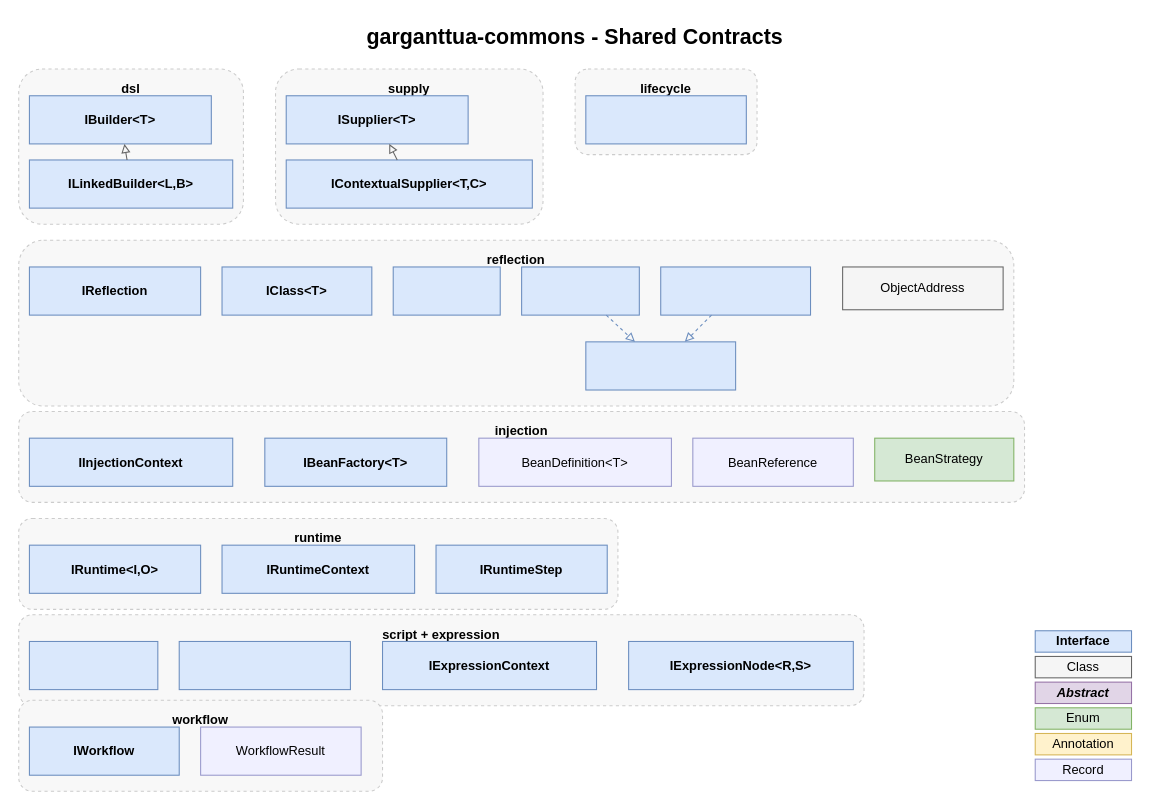
The diagram is 1150 pixels wide and 810 high, and some of its shapes have lost their labels. The centre of each missing label's shape, as x and y in pixels:
IConstructor: pixel 735 290
IExecutable: pixel 660 365
IField: pixel 446 290
ILifecycle: pixel 665 119
IMethod: pixel 580 290
IScript: pixel 93 665
IScriptFunction: pixel 264 665
